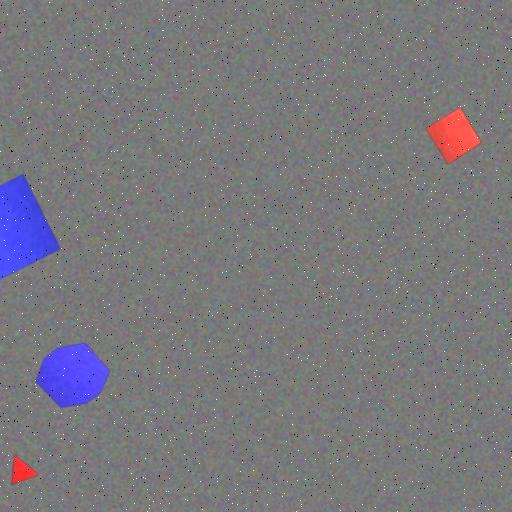BLUE_SQUARE: (0, 173, 62, 285)
RED_SQUARE: (425, 107, 482, 165)
